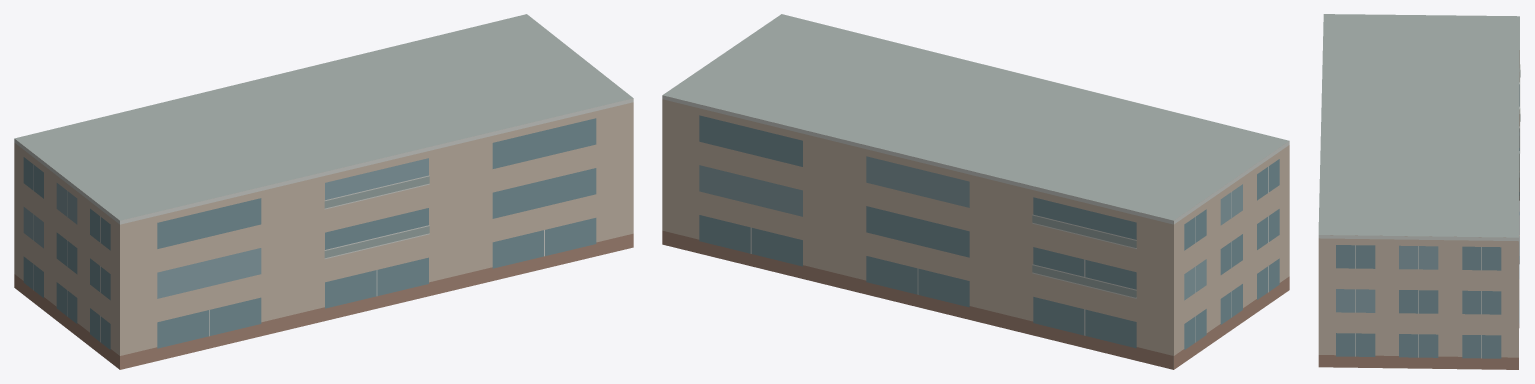
File: survey-upis-32593646.glb
3 renders of one model, left to right at view 1: azimuth 30°, elevation 25°; view 2: azimuth 150°, elevation 25°; view 3: azimuth 270°, elevation 25°, orthographic. The views are drawn at different scales.
Parts seen in each view (by area): view 1: survey-upis-32593646.tmp; view 2: survey-upis-32593646.tmp; view 3: survey-upis-32593646.tmp.
Boxes of the visible parts, bbox=[...] form: survey-upis-32593646.tmp: bbox=[14, 14, 633, 369]; survey-upis-32593646.tmp: bbox=[662, 14, 1289, 369]; survey-upis-32593646.tmp: bbox=[1318, 14, 1520, 369].
Size of the model in its own units: 33.18 by 9.15 by 12.67.
